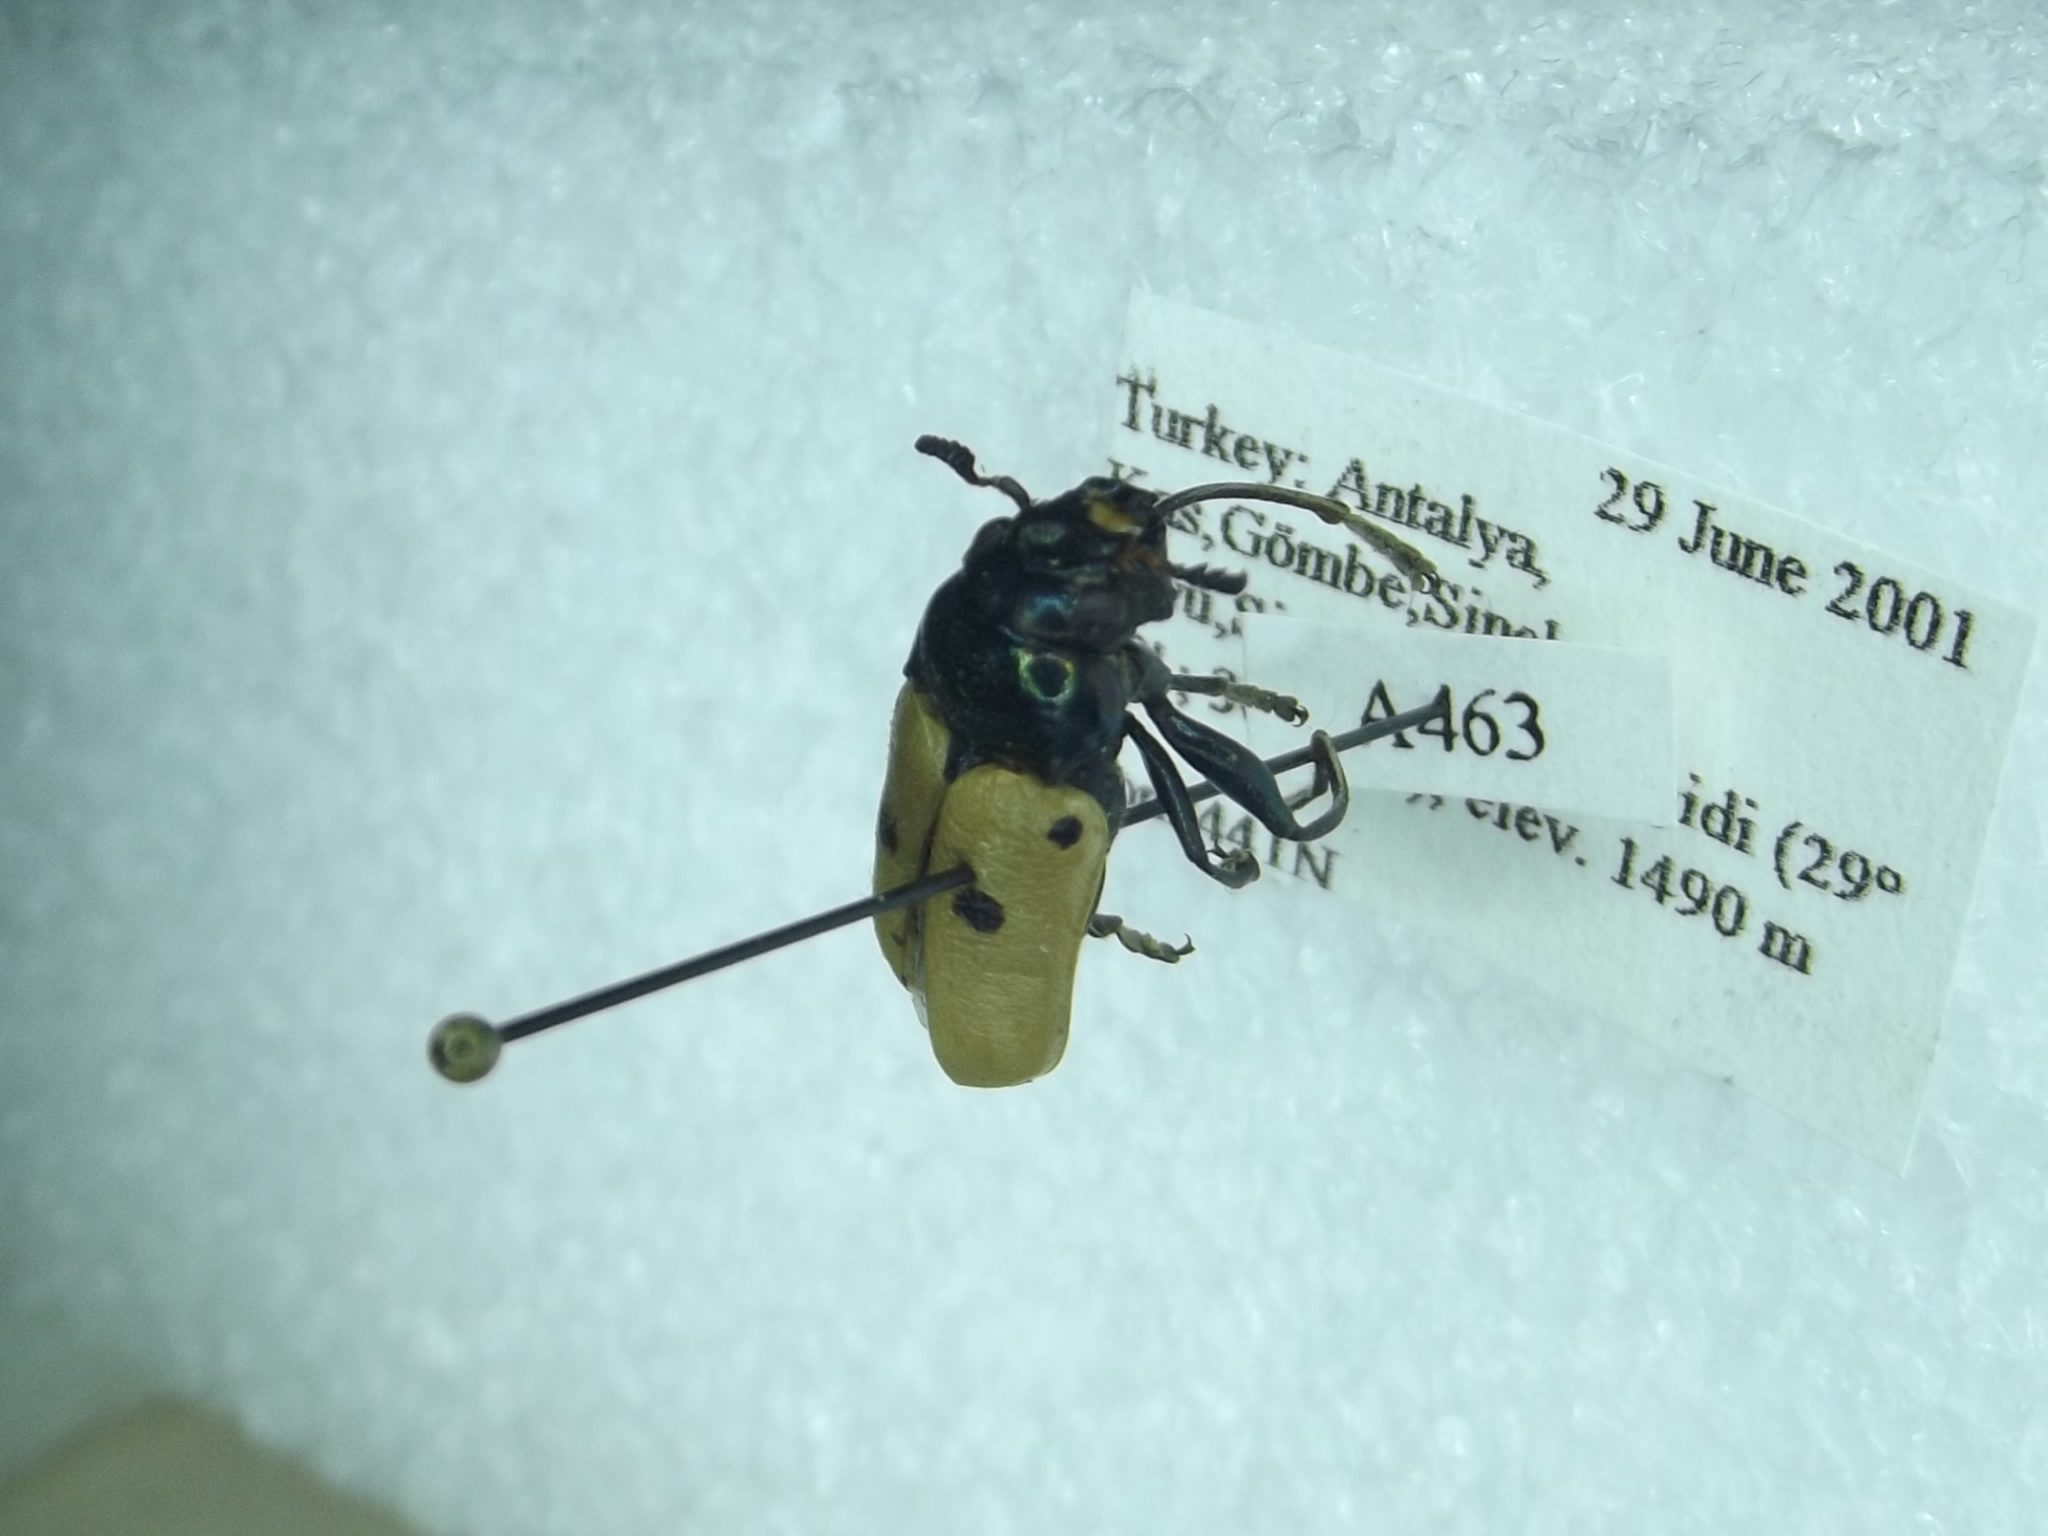Labidostomis_maculipennis: (822, 402, 1458, 1120)
